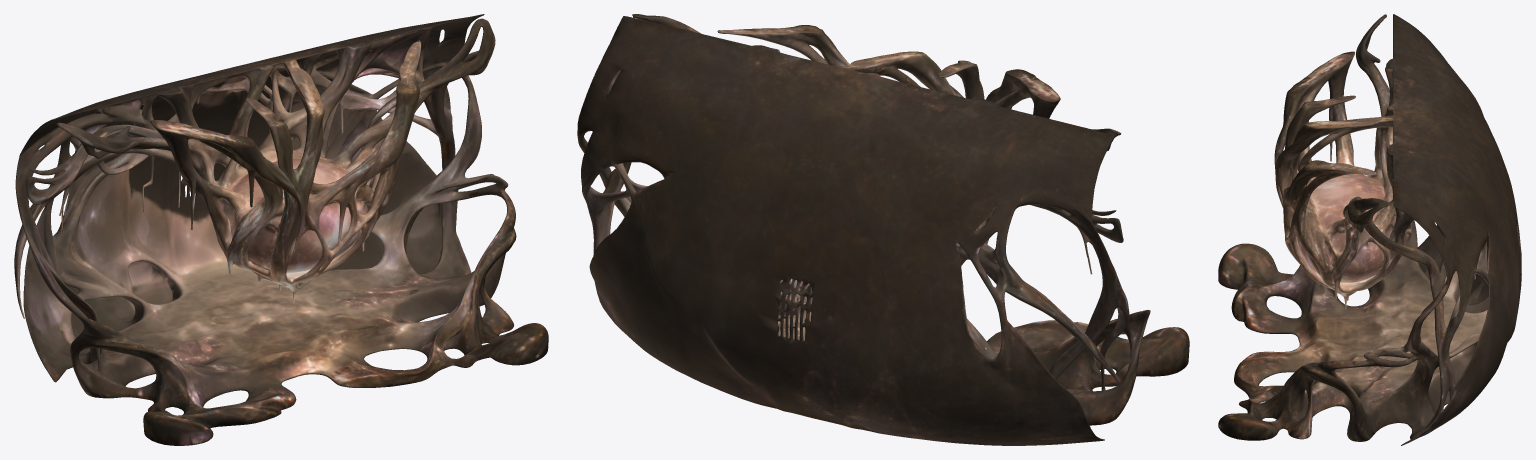
File: core.glb
The picture shows the model from 3 angles, left to right: view 1: azimuth 30°, elevation 25°; view 2: azimuth 150°, elevation 25°; view 3: azimuth 270°, elevation 25°; orthographic projection. The views are drawn at different scales.
Visible parts, largest first — view 1: tripo_node_660f12b3-eac5-4c36-81b5-9f4df3325146; view 2: tripo_node_660f12b3-eac5-4c36-81b5-9f4df3325146; view 3: tripo_node_660f12b3-eac5-4c36-81b5-9f4df3325146.
Boxes of the visible parts, x1,y1,x2,y2 form: tripo_node_660f12b3-eac5-4c36-81b5-9f4df3325146: (14, 14, 548, 445); tripo_node_660f12b3-eac5-4c36-81b5-9f4df3325146: (577, 14, 1189, 445); tripo_node_660f12b3-eac5-4c36-81b5-9f4df3325146: (1218, 14, 1521, 445).
Bounding box in the file's own units: 0.9792 × 0.5438 × 0.6101.
Materials: 1 (1 with a texture image).
